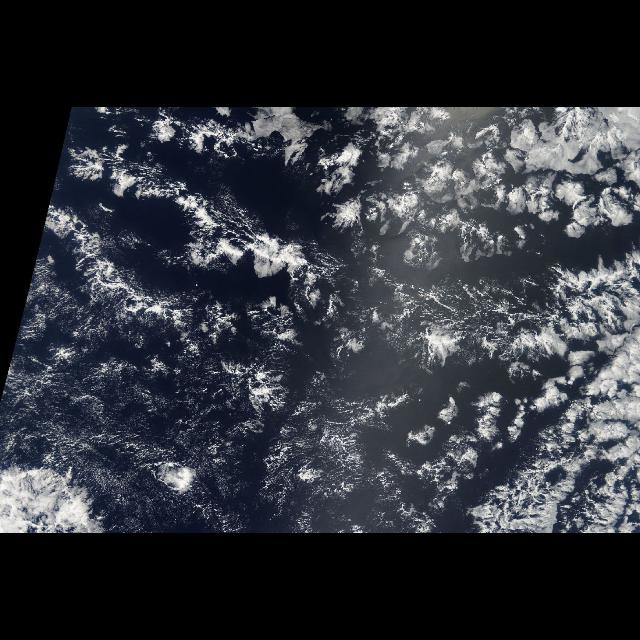Fish: (45, 113, 639, 380)
Sugar: (9, 246, 639, 528)
